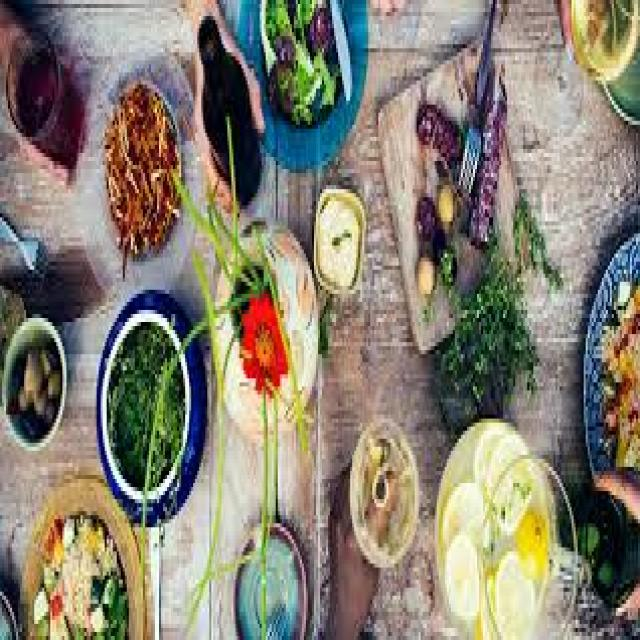organic waste: (139, 290, 239, 636), (165, 109, 276, 302), (437, 245, 535, 422), (182, 237, 220, 636), (103, 80, 181, 270), (249, 225, 308, 451), (107, 322, 181, 487), (30, 511, 125, 636), (258, 0, 334, 117), (594, 274, 638, 463), (568, 495, 636, 608), (465, 68, 505, 242), (235, 286, 292, 390), (509, 185, 562, 282), (567, 0, 631, 76), (412, 185, 453, 282), (491, 543, 533, 636), (316, 193, 354, 282), (414, 97, 461, 161), (516, 507, 548, 580), (471, 423, 501, 479), (437, 177, 455, 226), (22, 342, 40, 391), (414, 249, 432, 294), (36, 342, 56, 378), (318, 298, 332, 346), (12, 382, 28, 410), (44, 366, 59, 394), (40, 398, 54, 418), (12, 362, 26, 378), (28, 391, 42, 406)
